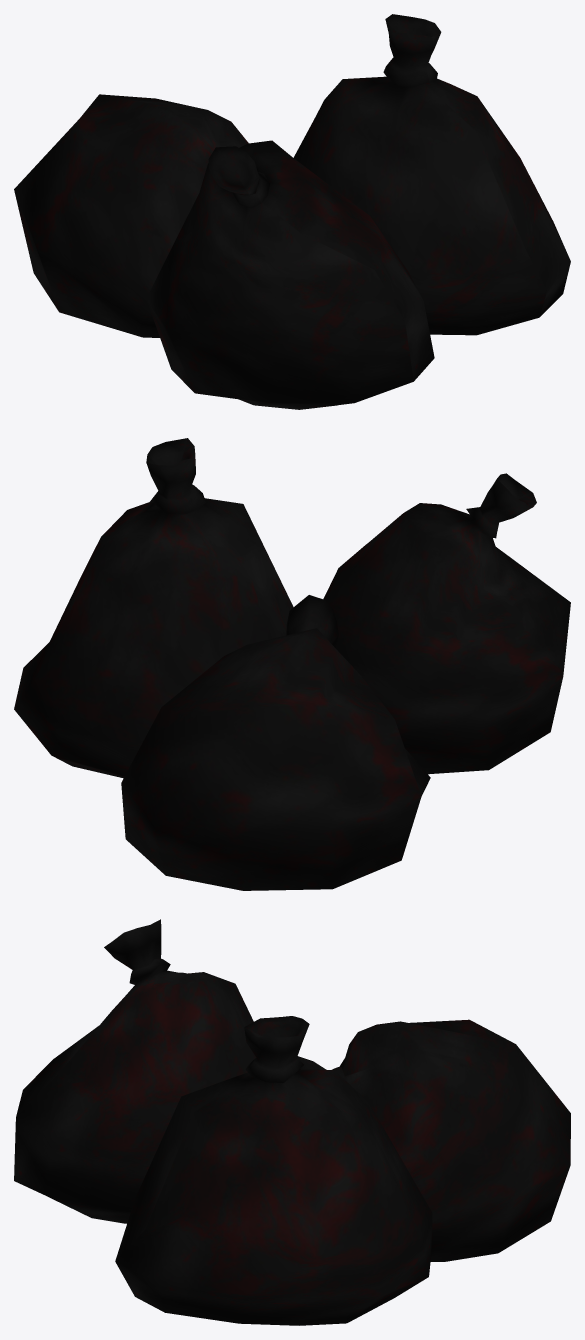
Rendered from TrashBags.fbx.
The picture shows the model from 3 angles, top to bottom: view 1: azimuth 30°, elevation 25°; view 2: azimuth 150°, elevation 25°; view 3: azimuth 270°, elevation 25°; orthographic projection. The views are drawn at different scales.
Visible parts, largest first — view 1: TrashBagsGroup2; view 2: TrashBagsGroup2; view 3: TrashBagsGroup2.
Boxes of the visible parts, x1=… form: TrashBagsGroup2: x1=14, y1=14, x2=570, y2=409; TrashBagsGroup2: x1=14, y1=438, x2=570, y2=890; TrashBagsGroup2: x1=14, y1=919, x2=570, y2=1325.
Bounding box in the file's own units: 132 × 80.99 × 152.
